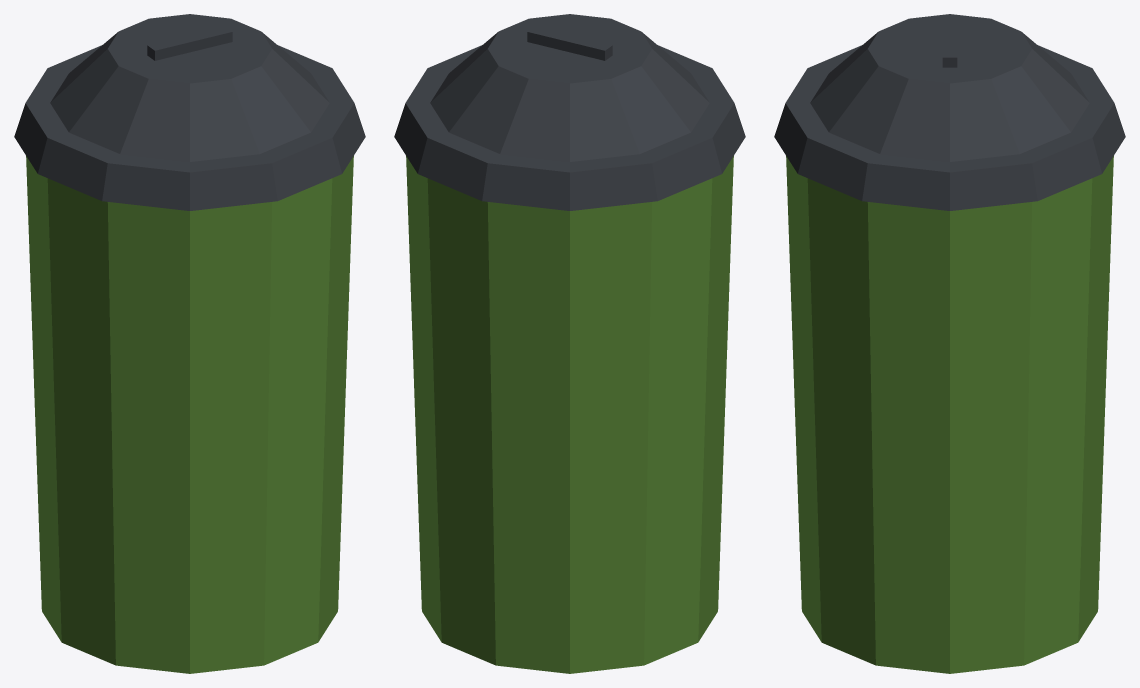
File: trash_bin.glb
3 renders of one model, left to right at view 1: azimuth 30°, elevation 25°; view 2: azimuth 150°, elevation 25°; view 3: azimuth 270°, elevation 25°, orthographic.
Visible parts, largest first — view 1: TrashBin; view 2: TrashBin; view 3: TrashBin.
Boxes of the visible parts, box(x1,y1,x2,y2) form: TrashBin: box(14, 14, 365, 673); TrashBin: box(394, 14, 745, 673); TrashBin: box(774, 14, 1125, 673).
Size of what is drawn, in the model's own units: 0.47 by 0.845 by 0.47.
